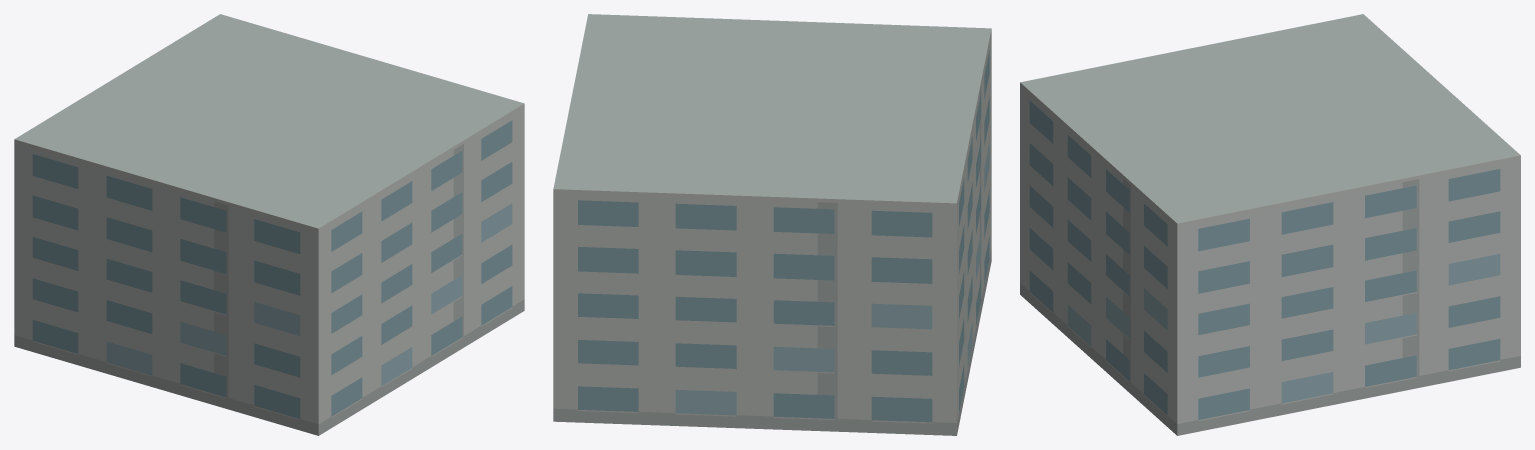
The model's file is residential-65b67f8f-7157-4a4b-8564-5a5558a4c82b.glb.
3 views of the same model, side by side, from view 1: azimuth 30°, elevation 25°; view 2: azimuth 150°, elevation 25°; view 3: azimuth 270°, elevation 25° (orthographic). The views are drawn at different scales.
Parts seen in each view (by area): view 1: residential-65b67f8f-7157-4a4b-8564-5a5558a4c82b.tmp; view 2: residential-65b67f8f-7157-4a4b-8564-5a5558a4c82b.tmp; view 3: residential-65b67f8f-7157-4a4b-8564-5a5558a4c82b.tmp.
Part boxes in pixels (x1,y1,x2,y2): residential-65b67f8f-7157-4a4b-8564-5a5558a4c82b.tmp: (14, 14, 524, 435); residential-65b67f8f-7157-4a4b-8564-5a5558a4c82b.tmp: (553, 14, 991, 435); residential-65b67f8f-7157-4a4b-8564-5a5558a4c82b.tmp: (1020, 14, 1520, 435).
Size of the model in its own units: 32.3 by 15.25 by 32.62.
